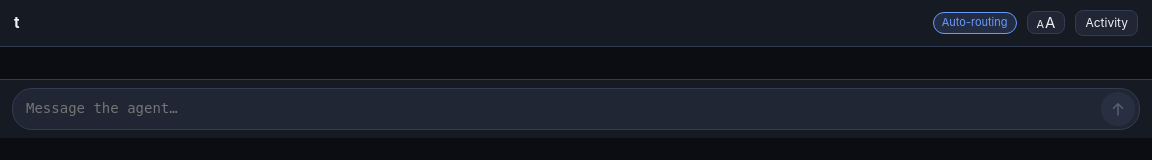
Scenario: Thread — optimistic send (11 §5) › on failure: removes the optimistic message, restores the draft, says so
Type "important text" into the text box with placeholder "Message the agent…" at (560, 109), box [26,92,1095,126]
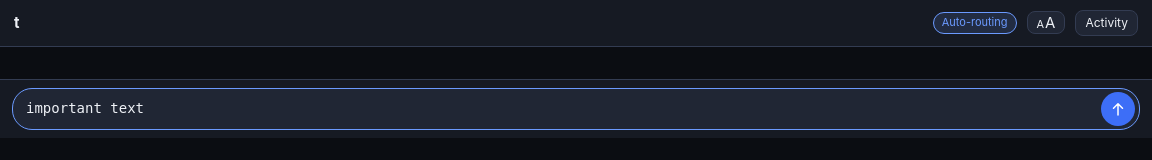
Click the button named "Send message" at (1118, 109), box [1101,92,1135,126]
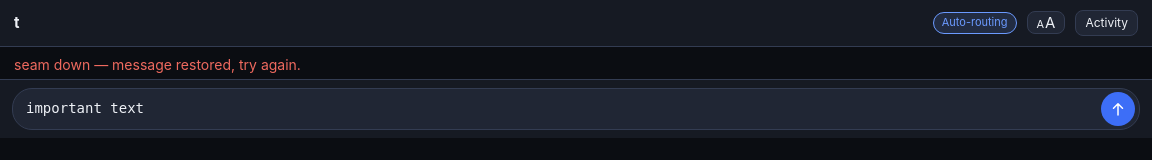
Expected: the text "seam down — message restored, try again." is shown, [14,56,301,74]
